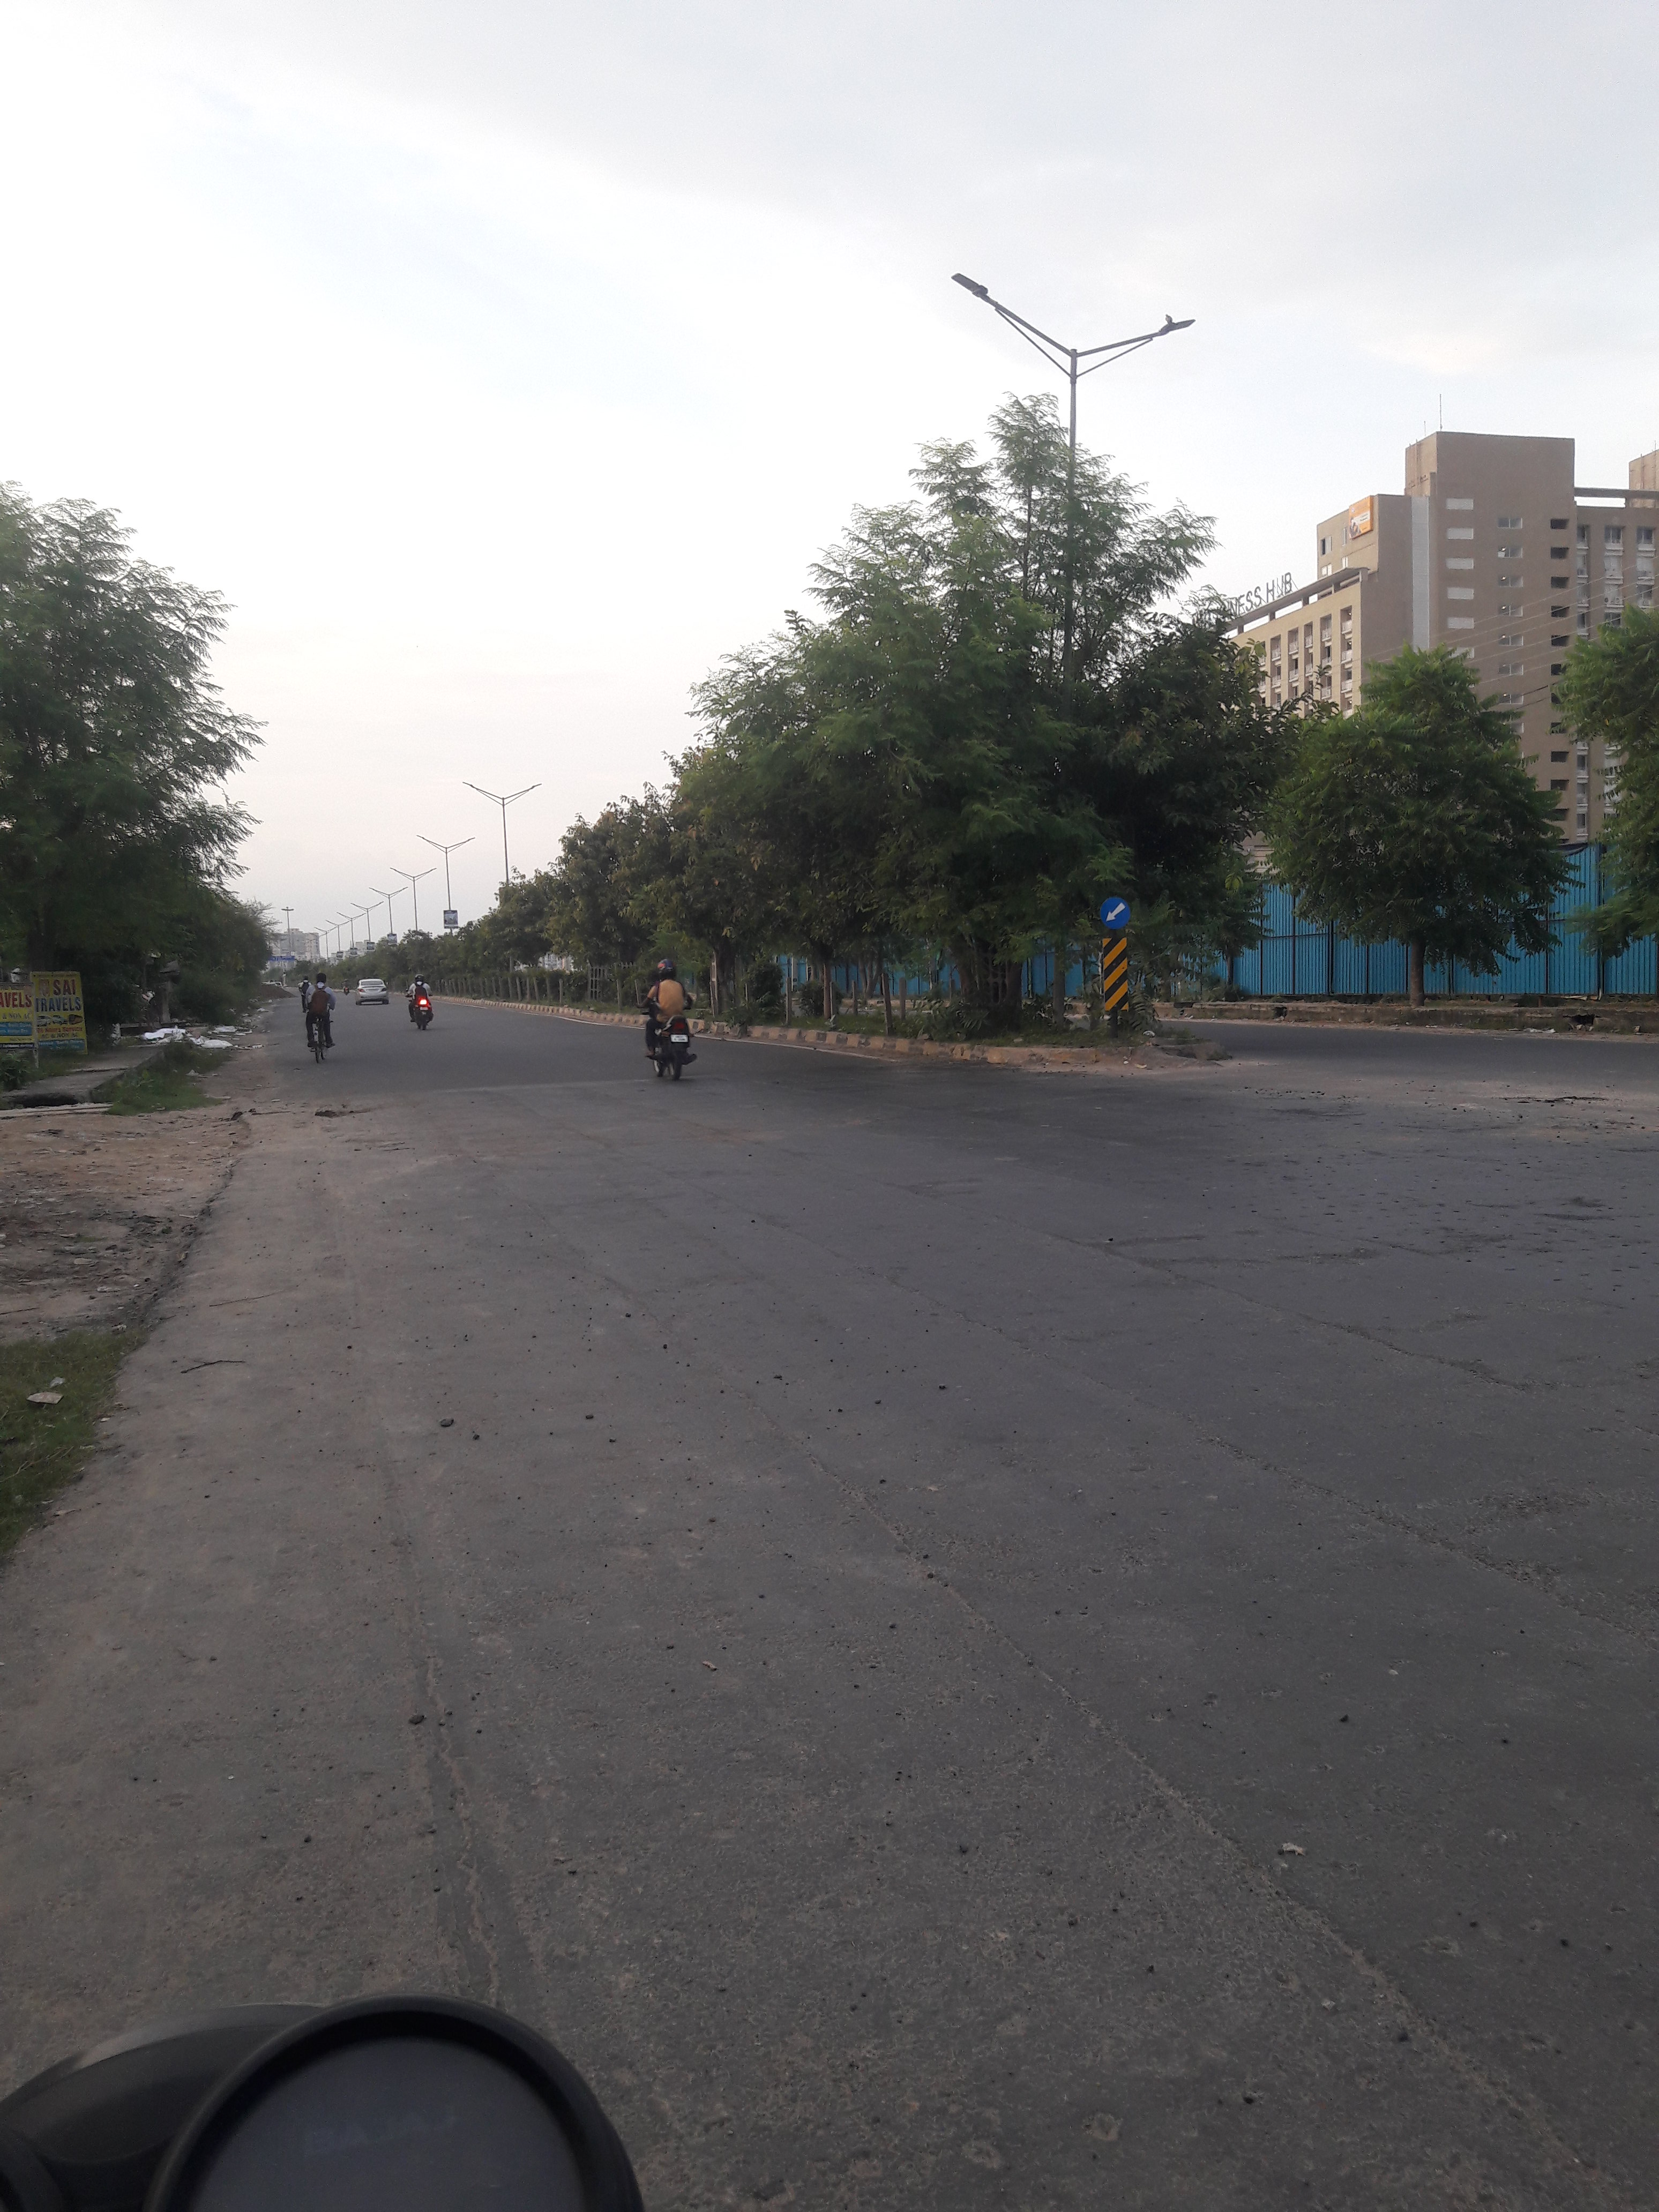traffic_sign: (1100, 895, 1133, 932)
